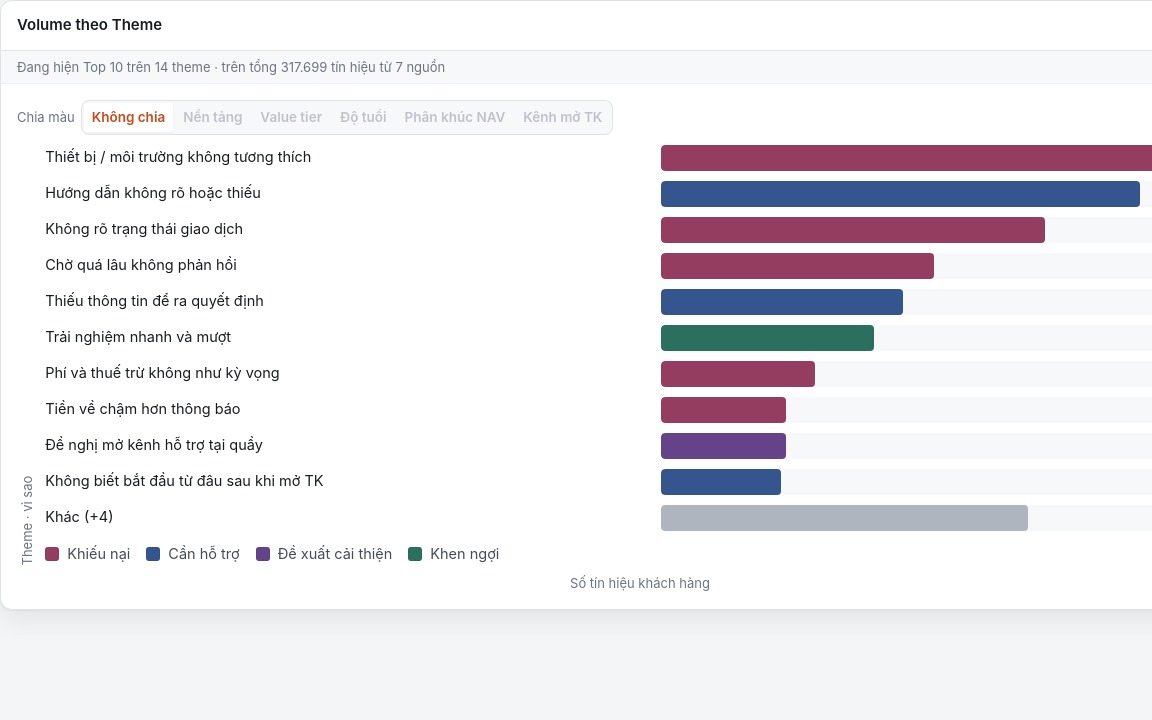
QuantifyWidget — drill-down trục agg (bằng chứng là TẬP MẪU) › bấm hàng đầu q1 → panel mở, nói rõ số trên thanh là TỔNG HỢP và danh sách chỉ là tập mẫu
Click the button "Thiết bị / môi trường không tương thích 2,3K" at (178, 157), box [45,145,1151,171]
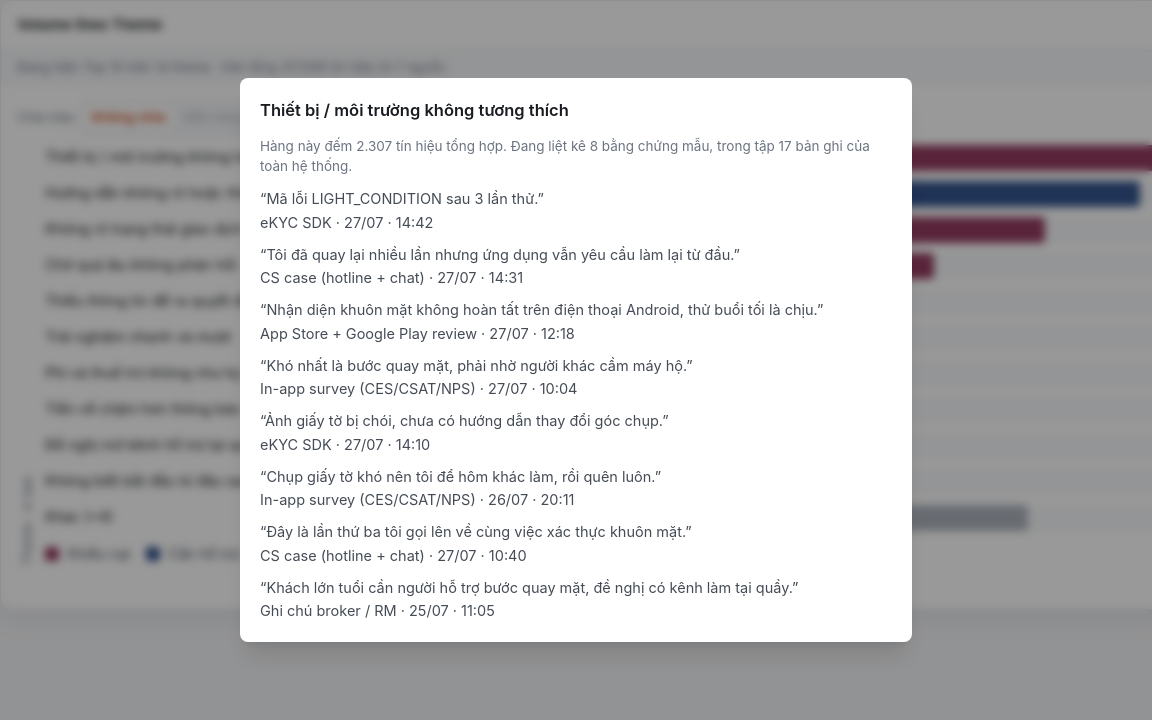
Result: the text with test id "drill-denom" shows "tín hiệu tổng hợp" at [260,138,870,174]
Result: the text with test id "drill-denom" shows "8 bằng chứng mẫu" at [260,138,870,174]
Result: the text with test id "drill-denom" shows "trong tập 17 bản ghi" at [260,138,870,174]
